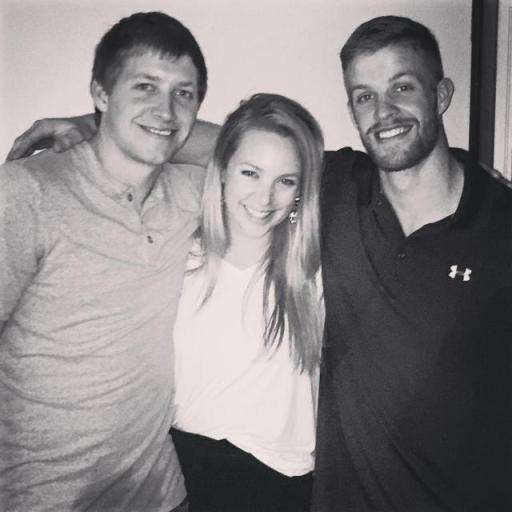Under Armour: (444, 258, 477, 286)
